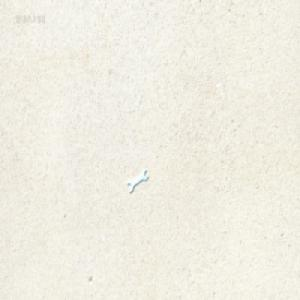Wrench: (127, 168, 148, 193)
